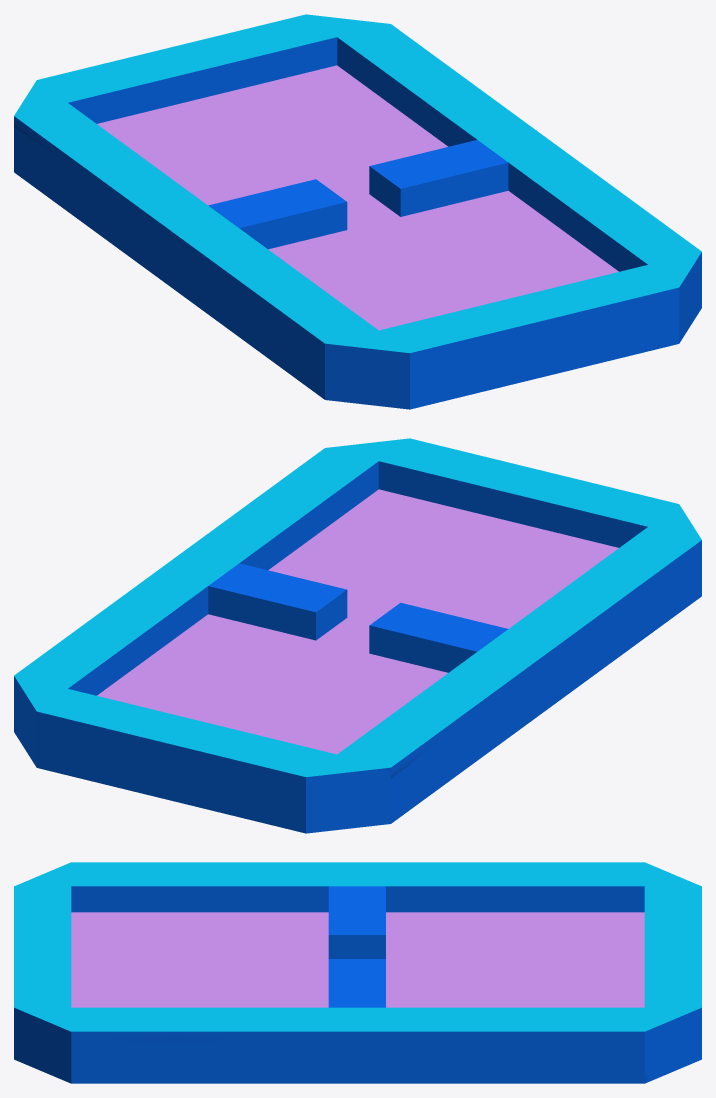
The model's file is table-classic-01.glb.
3 views of the same model, one above another, from view 1: azimuth 30°, elevation 25°; view 2: azimuth 150°, elevation 25°; view 3: azimuth 270°, elevation 25° (orthographic). The views are drawn at different scales.
Visible parts, largest first — view 1: Table; view 2: Table; view 3: Table.
Part boxes in pixels (<box>): Table: <box>14,14,701,409</box>; Table: <box>14,438,701,833</box>; Table: <box>14,862,701,1083</box>.
Bounding box in the file's own units: 14 × 2 × 24.
Materials: 1 (1 with a texture image).
